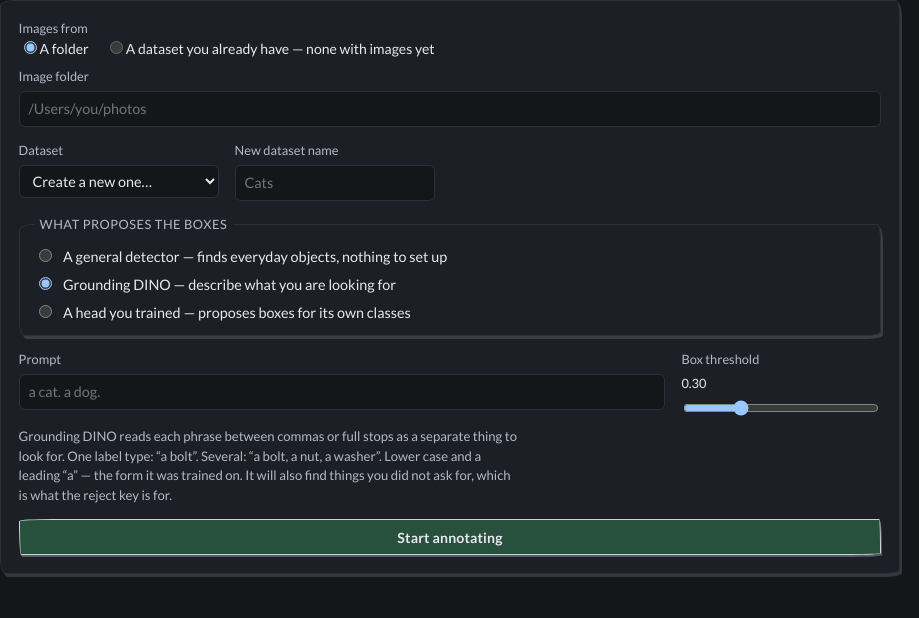
Scenario: proposing with a general detector (doc 42) › never offers a depth model as a box proposer
Click the radio button labelled "general detector".
click(46, 255)  # box x1=39 y1=249 x2=52 y2=262
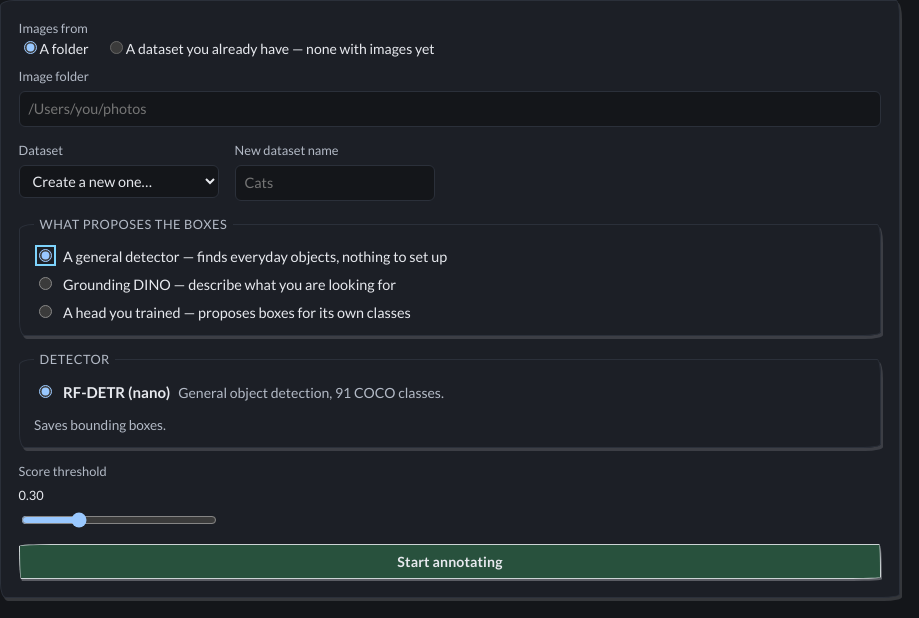
Expected: the radio button labelled "RF-DETR (nano) General object detection, 91 COCO classes." is shown, x1=39 y1=385 x2=52 y2=398
